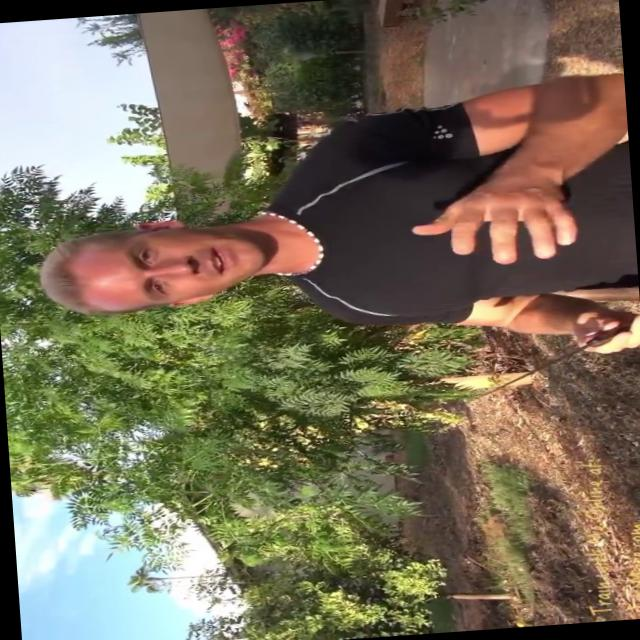knife: (446, 319, 633, 412)
